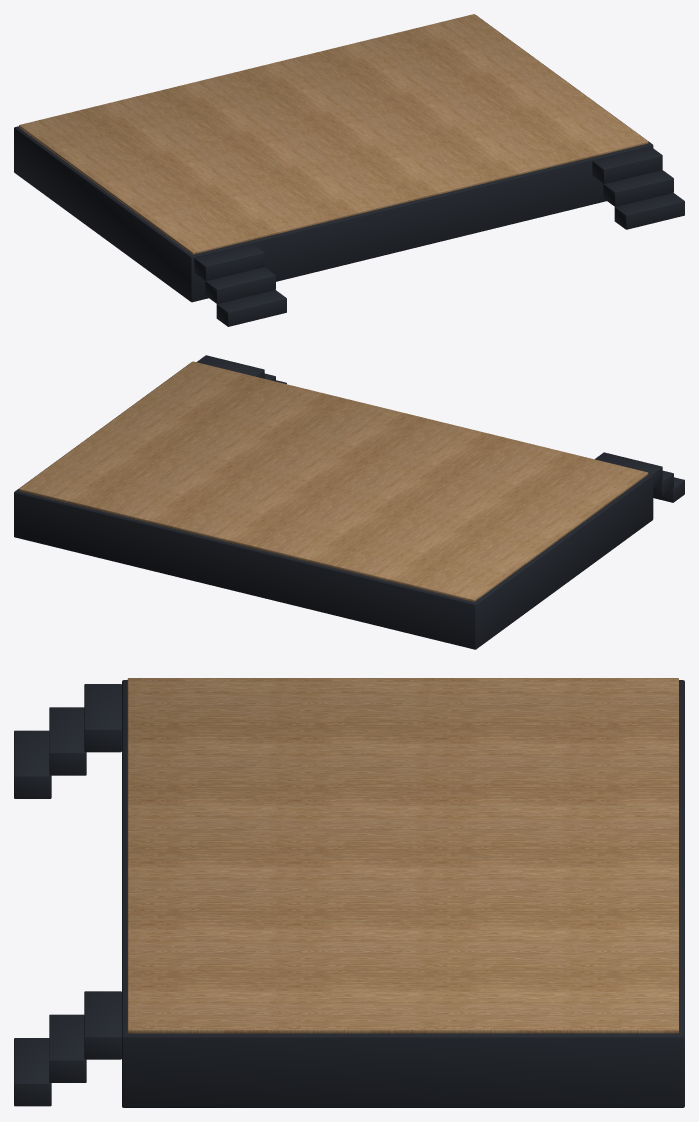
Rendered from festival-stage-9dc9c7f3d981.glb.
3 views of the same model, one above another, from view 1: azimuth 30°, elevation 25°; view 2: azimuth 150°, elevation 25°; view 3: azimuth 270°, elevation 25° (orthographic). The views are drawn at different scales.
Parts seen in each view (by area): view 1: Timber_Floor, Mesh_Wrought_Iron; view 2: Timber_Floor, Mesh_Wrought_Iron; view 3: Timber_Floor, Mesh_Wrought_Iron.
Boxes of the visible parts, x1,y1,x2,y2 form: Timber_Floor: (19, 14, 648, 254); Mesh_Wrought_Iron: (14, 15, 684, 326); Timber_Floor: (19, 361, 648, 601); Mesh_Wrought_Iron: (14, 355, 684, 649); Timber_Floor: (127, 678, 678, 1033); Mesh_Wrought_Iron: (14, 680, 684, 1107).
Bounding box in the file's own units: 7.2 × 0.72 × 5.72.
2 materials, 1 textured.
